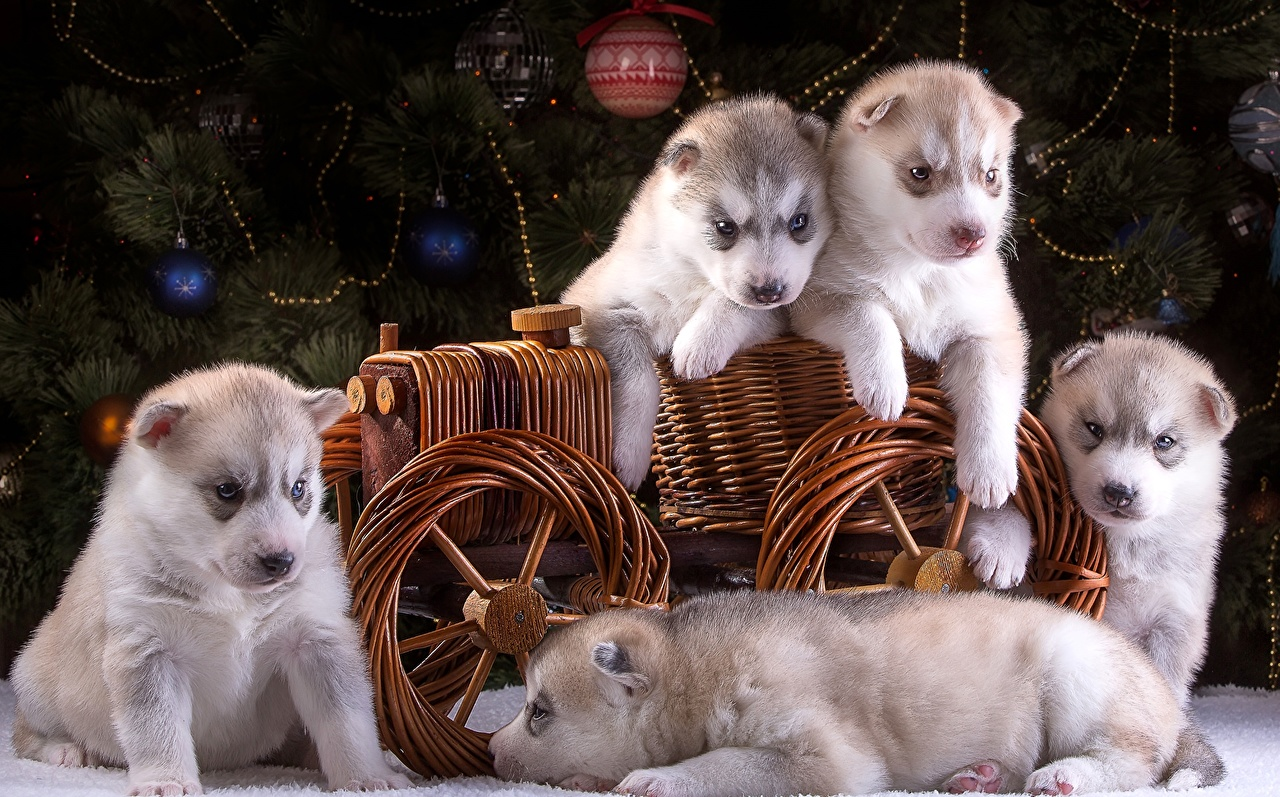husky: (85, 329, 352, 611), (1023, 334, 1268, 568), (820, 46, 1043, 288), (491, 573, 697, 789), (649, 86, 835, 315)
